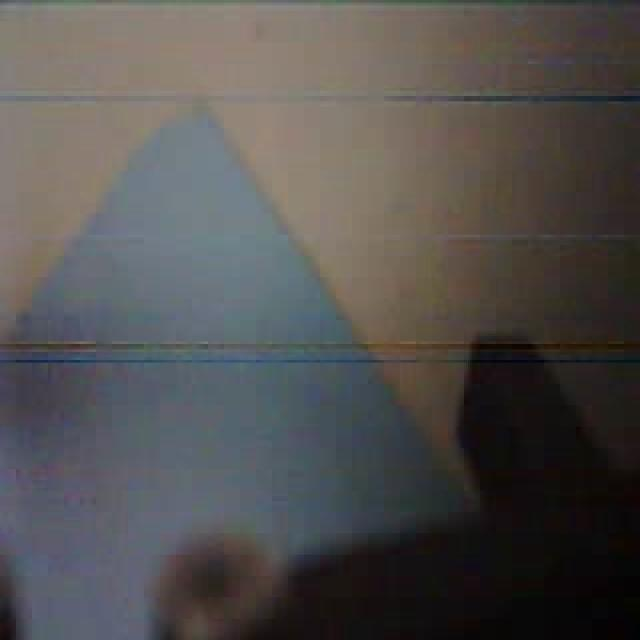blue_box: (0, 96, 470, 637)
